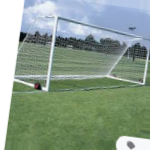goals: (13, 12, 150, 95)
